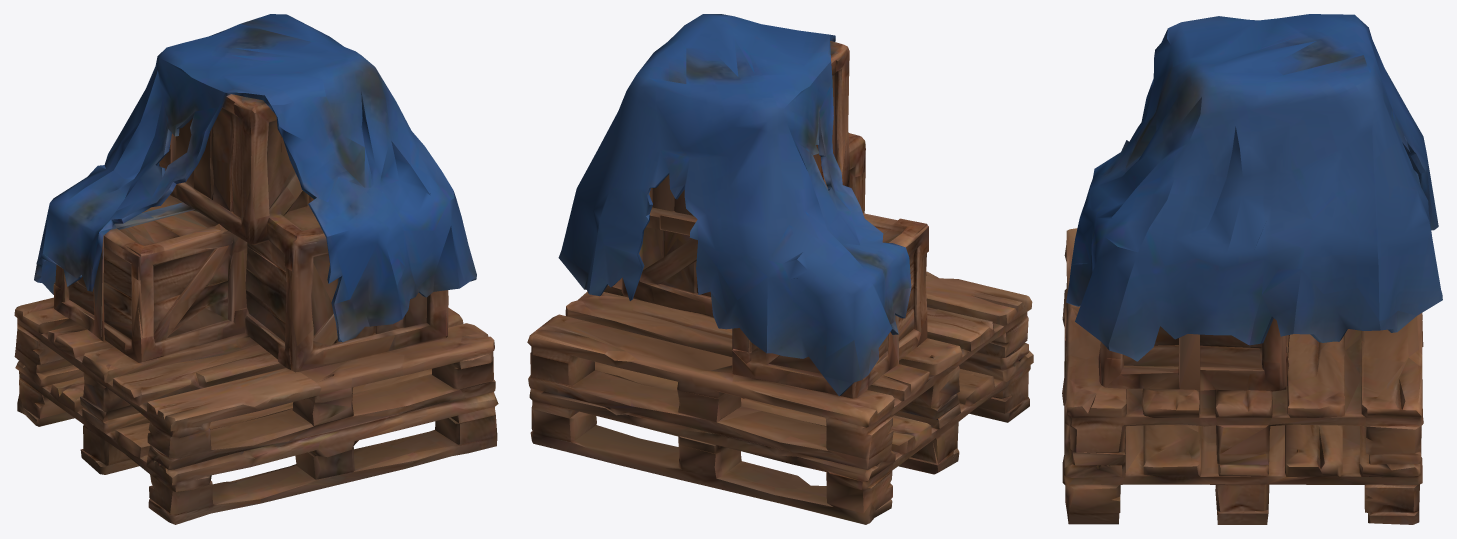
File: isle_pallets_b_idle.glb
3 views of the same model, side by side, from view 1: azimuth 30°, elevation 25°; view 2: azimuth 150°, elevation 25°; view 3: azimuth 270°, elevation 25° (orthographic). The views are drawn at different scales.
Visible parts, largest first — view 1: tripo_node_f2d11d3b-5cff-4041-bc8a-ec0f152d08fb; view 2: tripo_node_f2d11d3b-5cff-4041-bc8a-ec0f152d08fb; view 3: tripo_node_f2d11d3b-5cff-4041-bc8a-ec0f152d08fb.
Part boxes in pixels (bbox=[...]): tripo_node_f2d11d3b-5cff-4041-bc8a-ec0f152d08fb: bbox=[14, 14, 498, 524]; tripo_node_f2d11d3b-5cff-4041-bc8a-ec0f152d08fb: bbox=[527, 14, 1033, 524]; tripo_node_f2d11d3b-5cff-4041-bc8a-ec0f152d08fb: bbox=[1062, 14, 1442, 524].
Size of the model in its own units: 2.2 by 2.32 by 1.97.
1 material, 1 textured.
